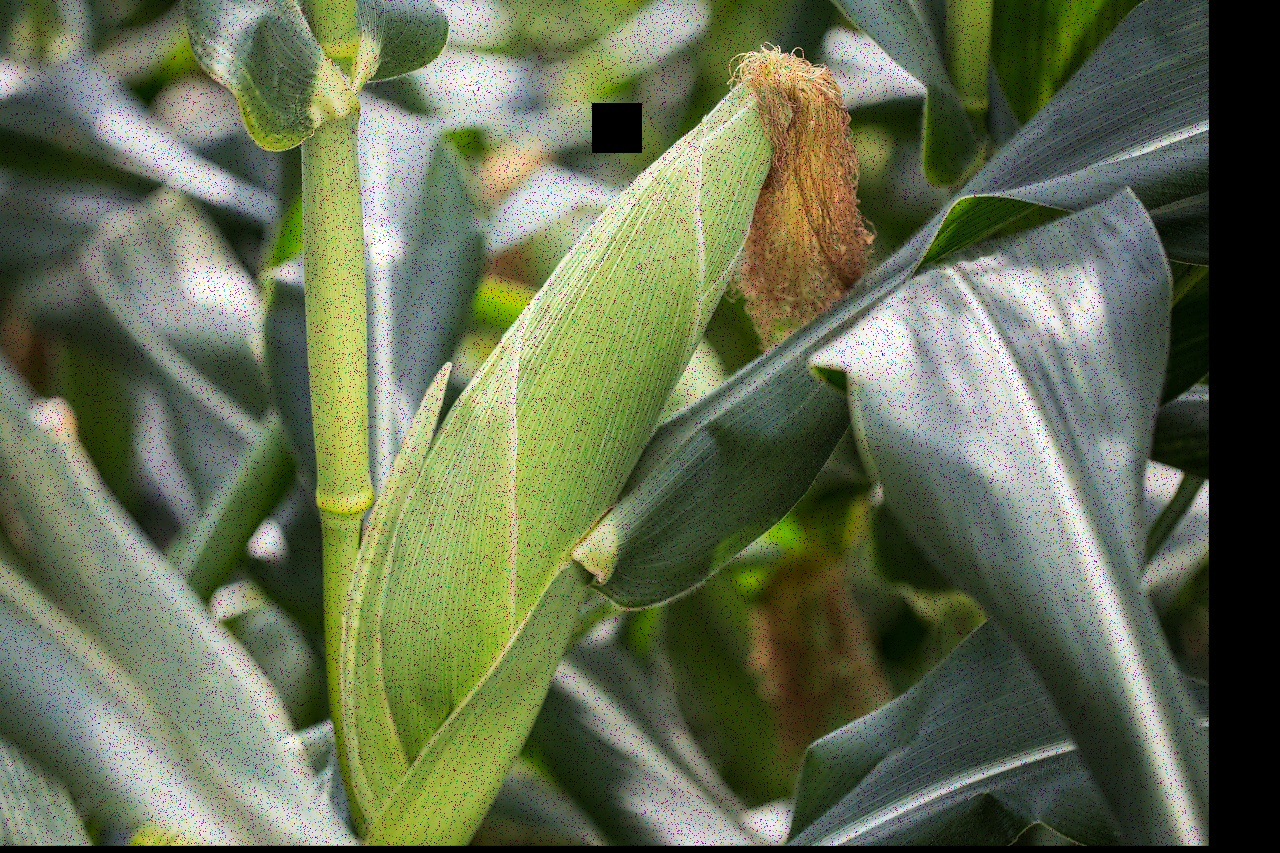corn_plant: (336, 25, 875, 816)
